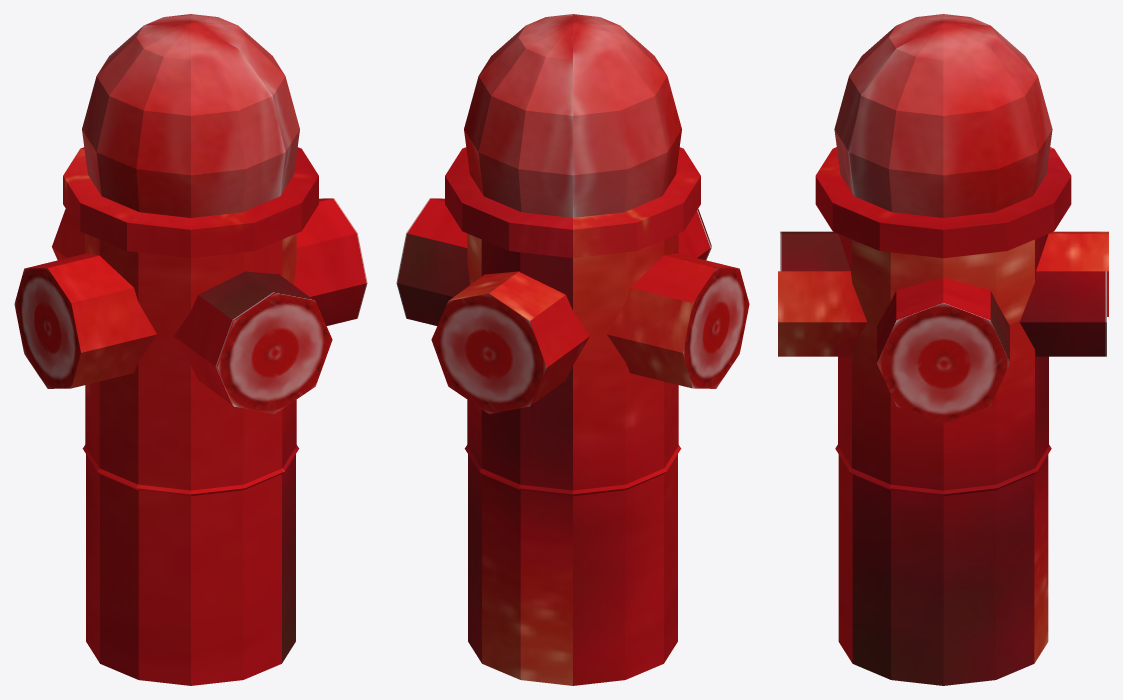
Rendered from fire_hydrant.fbx.
3 renders of one model, left to right at view 1: azimuth 30°, elevation 25°; view 2: azimuth 150°, elevation 25°; view 3: azimuth 270°, elevation 25°, orthographic.
Parts seen in each view (by area): view 1: fire_hydrant; view 2: fire_hydrant; view 3: fire_hydrant.
Boxes of the visible parts, bbox=[...] form: fire_hydrant: bbox=[14, 14, 367, 685]; fire_hydrant: bbox=[396, 14, 749, 685]; fire_hydrant: bbox=[778, 14, 1108, 685].
Bounding box in the file's own units: 2.39 × 4.93 × 2.39.
1 material, 1 textured.
